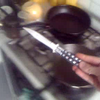knife: (22, 27, 83, 66)
